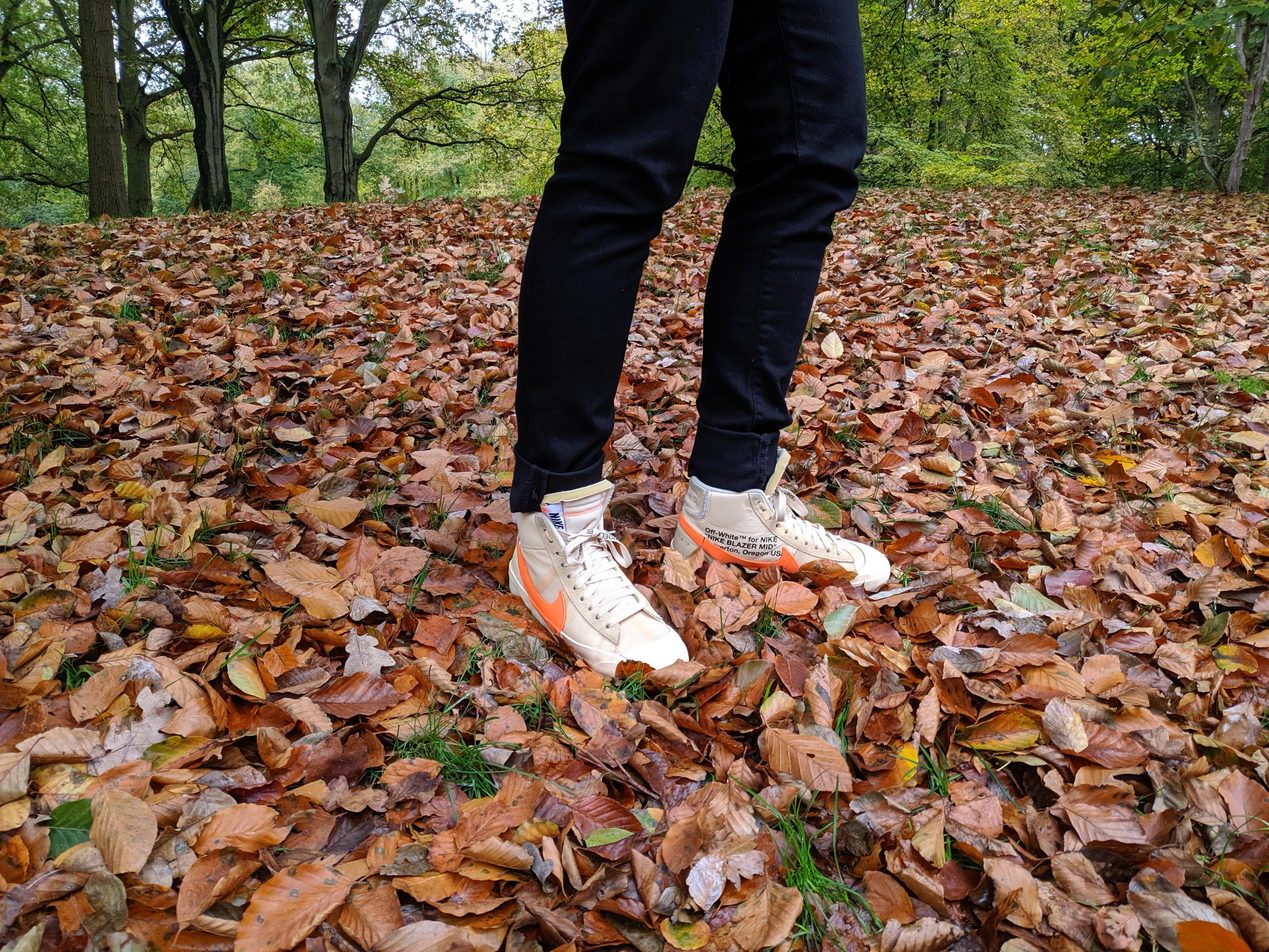sneaker: (448, 397, 712, 706), (668, 387, 892, 595)
